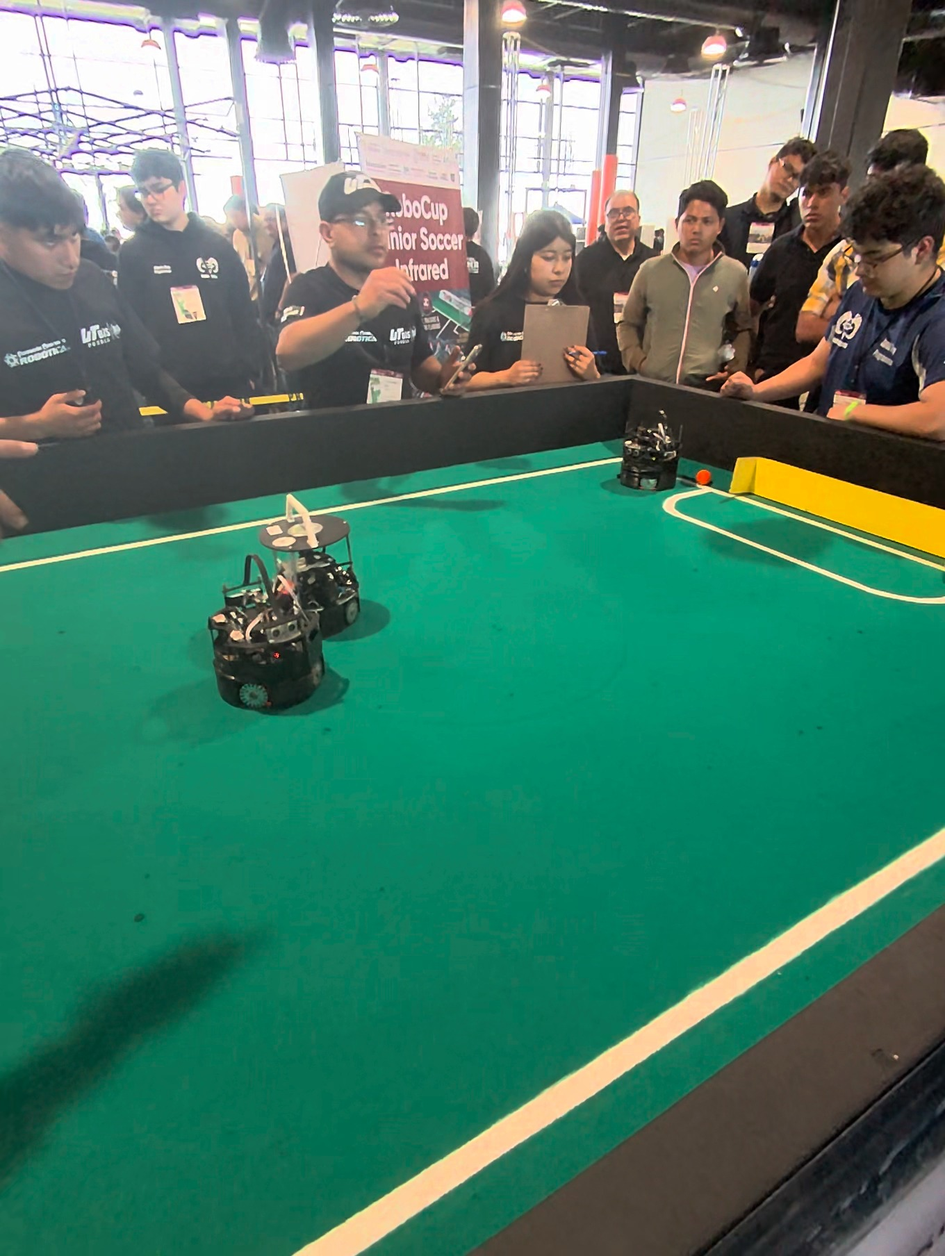Robot: (209, 564, 326, 724), (251, 493, 365, 636), (613, 389, 686, 499)
pelota: (694, 462, 725, 494)
